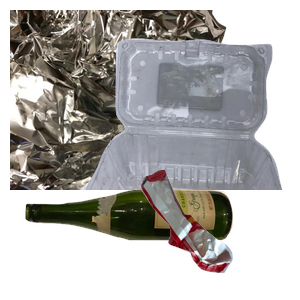glass: (23, 186, 249, 300)
metal: (10, 10, 229, 190)
plastic: (80, 36, 300, 216)
trash: (139, 167, 300, 300)
